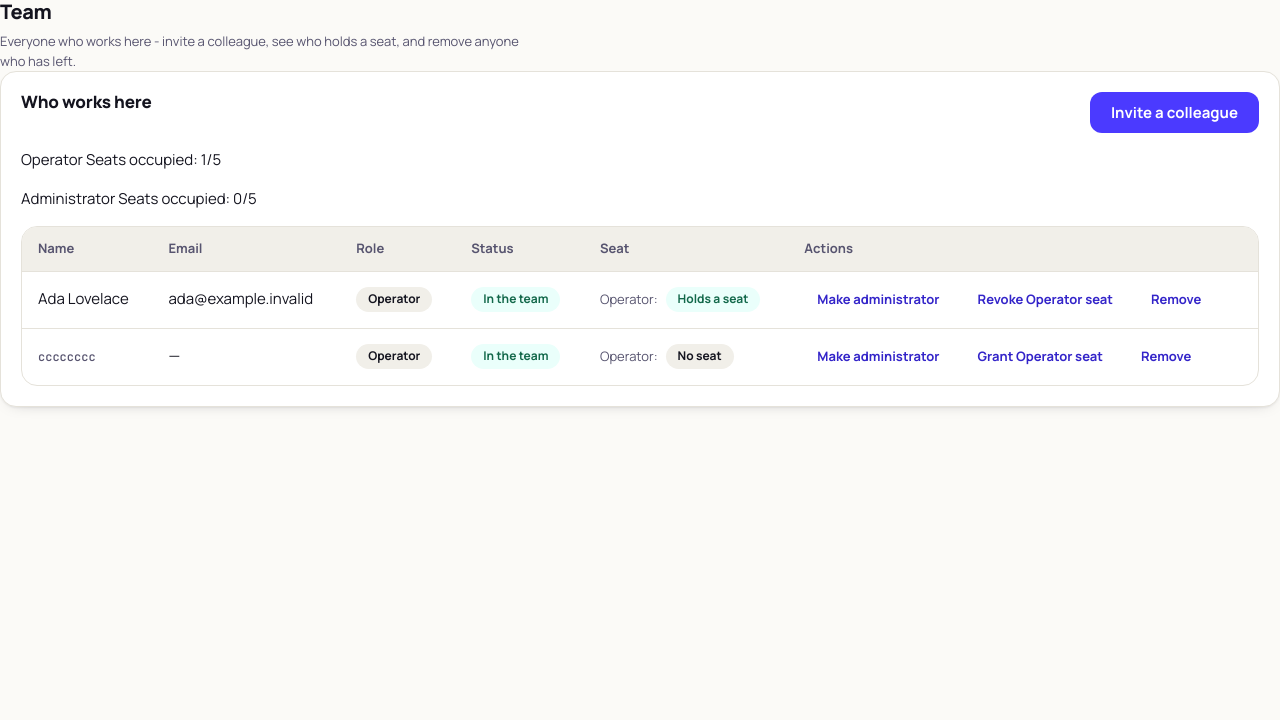
Test: the invite dialog's role multi-select › disables submit and says so when no role is ticked
Click the button "Invite a colleague".
click(1174, 112)  # box 1090,92 -> 1259,133
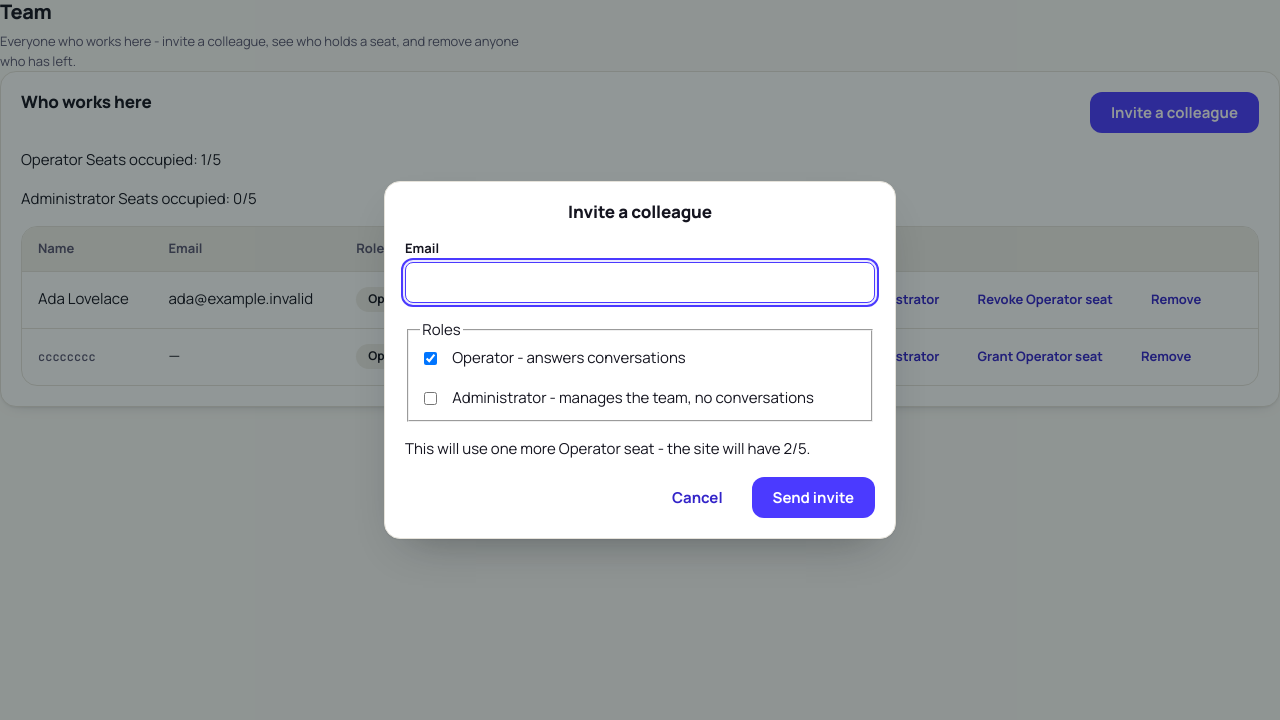
Click the checkbox labelled "Operator - answers conversations".
click(431, 359)  # box 424,352 -> 437,365
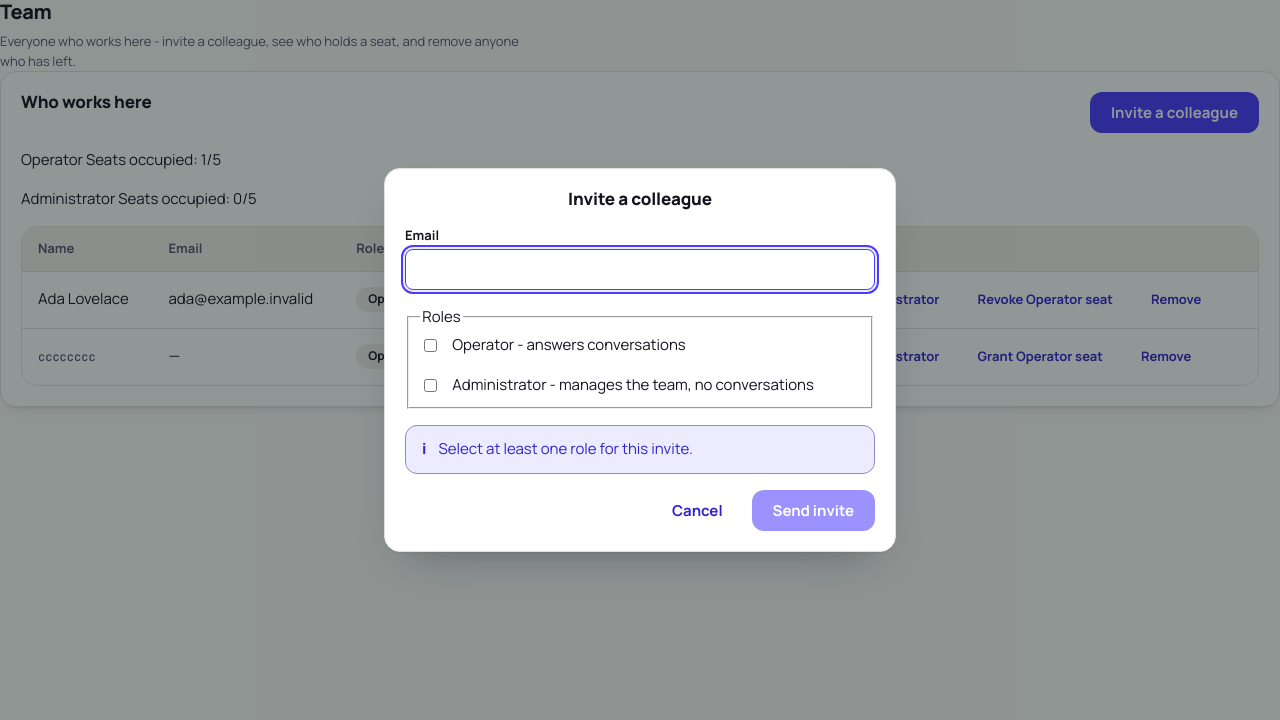
Expected: the text "Select at least one role" is shown, 438,438 -> 693,459
Expected: the button "Send invite" is disabled, 752,490 -> 875,530
